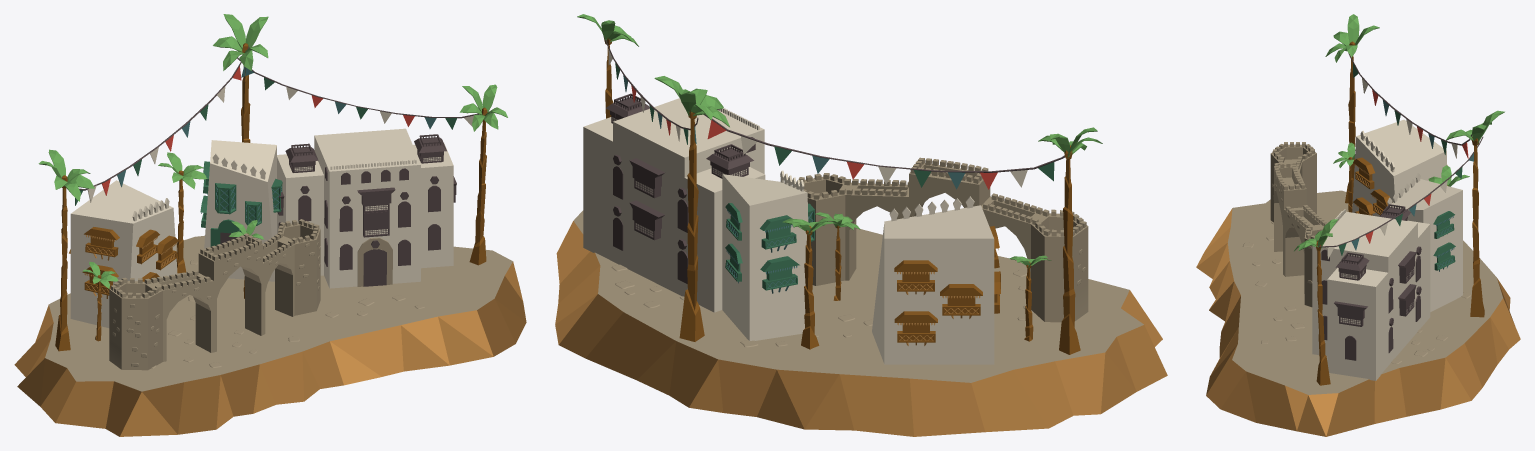
Rendered from historical_jeddah.fbx.
3 renders of one model, left to right at view 1: azimuth 30°, elevation 25°; view 2: azimuth 150°, elevation 25°; view 3: azimuth 270°, elevation 25°, orthographic. The views are drawn at different scales.
Parts seen in each view (by area): view 1: Madain_Saleh1:polySurface3045, polySurface1965, polySurface1437, polySurface1969, polySurface2204, polySurface1326, polySurface1292, polySurface1317, polySurface1266, polySurface1254, polySurface1328, polySurface1309; view 2: Madain_Saleh1:polySurface3045, polySurface1965, polySurface1969, polySurface1437, polySurface2204, polySurface1254, polySurface1309, polySurface1292, polySurface1326, polySurface1962, polySurface1966, polySurface1266 (+2 smaller); view 3: Madain_Saleh1:polySurface3045, polySurface1965, polySurface1437, polySurface1969, polySurface2204, polySurface1309, polySurface1317, polySurface1254, polySurface1266, polySurface1292, polySurface1328, polySurface1962 (+2 smaller).
Boxes of the visible parts, box(x1,y1,x2,y2) form: Madain_Saleh1:polySurface3045: box(14, 235, 526, 436); polySurface1965: box(277, 128, 456, 288); polySurface1437: box(109, 219, 320, 370); polySurface1969: box(69, 180, 178, 327); polySurface2204: box(200, 140, 282, 281); polySurface1326: box(158, 152, 207, 273); polySurface1292: box(55, 175, 70, 351); polySurface1317: box(469, 107, 487, 265); polySurface1266: box(237, 57, 479, 129); polySurface1254: box(75, 47, 249, 205); polySurface1328: box(82, 261, 118, 341); polySurface1309: box(241, 43, 250, 142); Madain_Saleh1:polySurface3045: box(555, 210, 1167, 436); polySurface1965: box(583, 93, 765, 312); polySurface1969: box(872, 196, 1000, 364); polySurface1437: box(798, 157, 1088, 322); polySurface2204: box(722, 170, 814, 340); polySurface1254: box(696, 103, 1064, 189); polySurface1309: box(679, 110, 704, 341); polySurface1292: box(1059, 145, 1080, 354); polySurface1326: box(782, 217, 839, 349); polySurface1962: box(629, 158, 664, 198); polySurface1966: box(629, 200, 664, 240); polySurface1266: box(603, 37, 698, 144); Madain_Saleh1:polySurface3045: box(1196, 190, 1520, 436); polySurface1965: box(1312, 204, 1430, 380); polySurface1437: box(1270, 142, 1326, 307); polySurface1969: box(1352, 119, 1447, 216); polySurface2204: box(1387, 173, 1462, 311); polySurface1309: box(1470, 137, 1484, 317); polySurface1317: box(1316, 240, 1330, 385); polySurface1254: box(1348, 53, 1471, 158); polySurface1266: box(1318, 137, 1483, 259); polySurface1292: box(1345, 41, 1355, 203); polySurface1328: box(1333, 142, 1355, 212); polySurface1962: box(1398, 251, 1416, 283).
Size of the model in its own units: 18.41 by 9.09 by 11.41.
